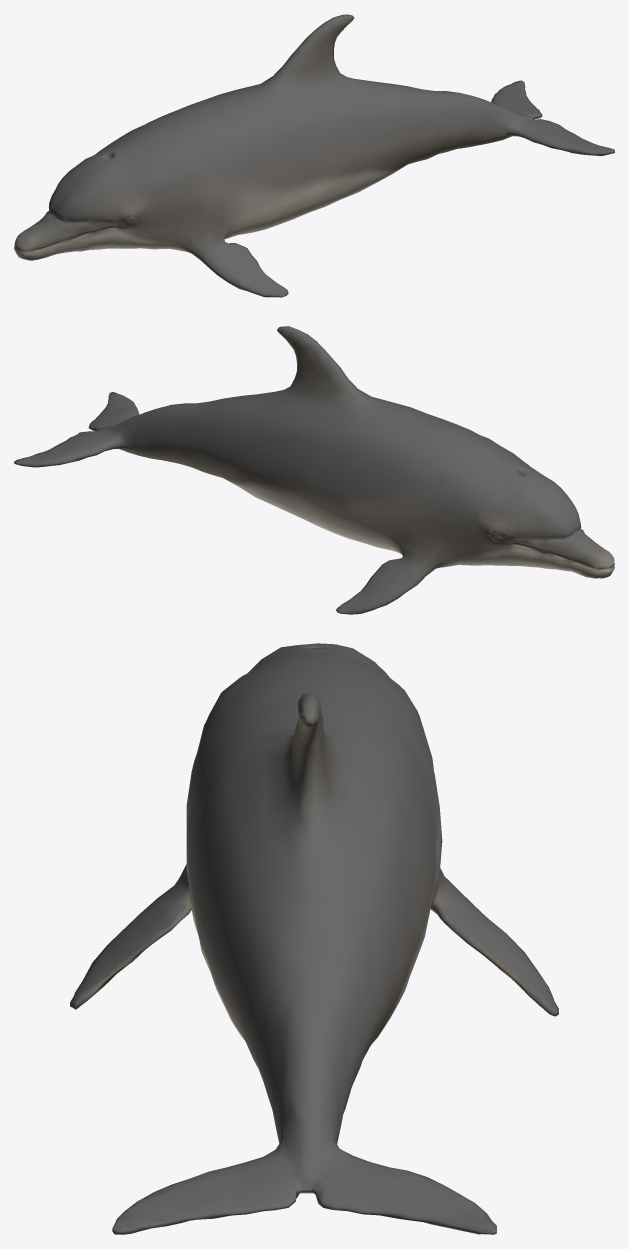
File: original_glb.glb
3 renders of one model, top to bottom at view 1: azimuth 30°, elevation 25°; view 2: azimuth 150°, elevation 25°; view 3: azimuth 270°, elevation 25°, orthographic. The views are drawn at different scales.
Visible parts, largest first — view 1: Dolphin; view 2: Dolphin; view 3: Dolphin.
Part boxes in pixels (left/top/right/bottom): Dolphin: left=14, top=14, right=614, bottom=297; Dolphin: left=14, top=326, right=614, bottom=614; Dolphin: left=70, top=643, right=558, bottom=1234.
Size of the model in its own units: 0.998 by 0.3652 by 0.3848.
1 material, 1 textured.
